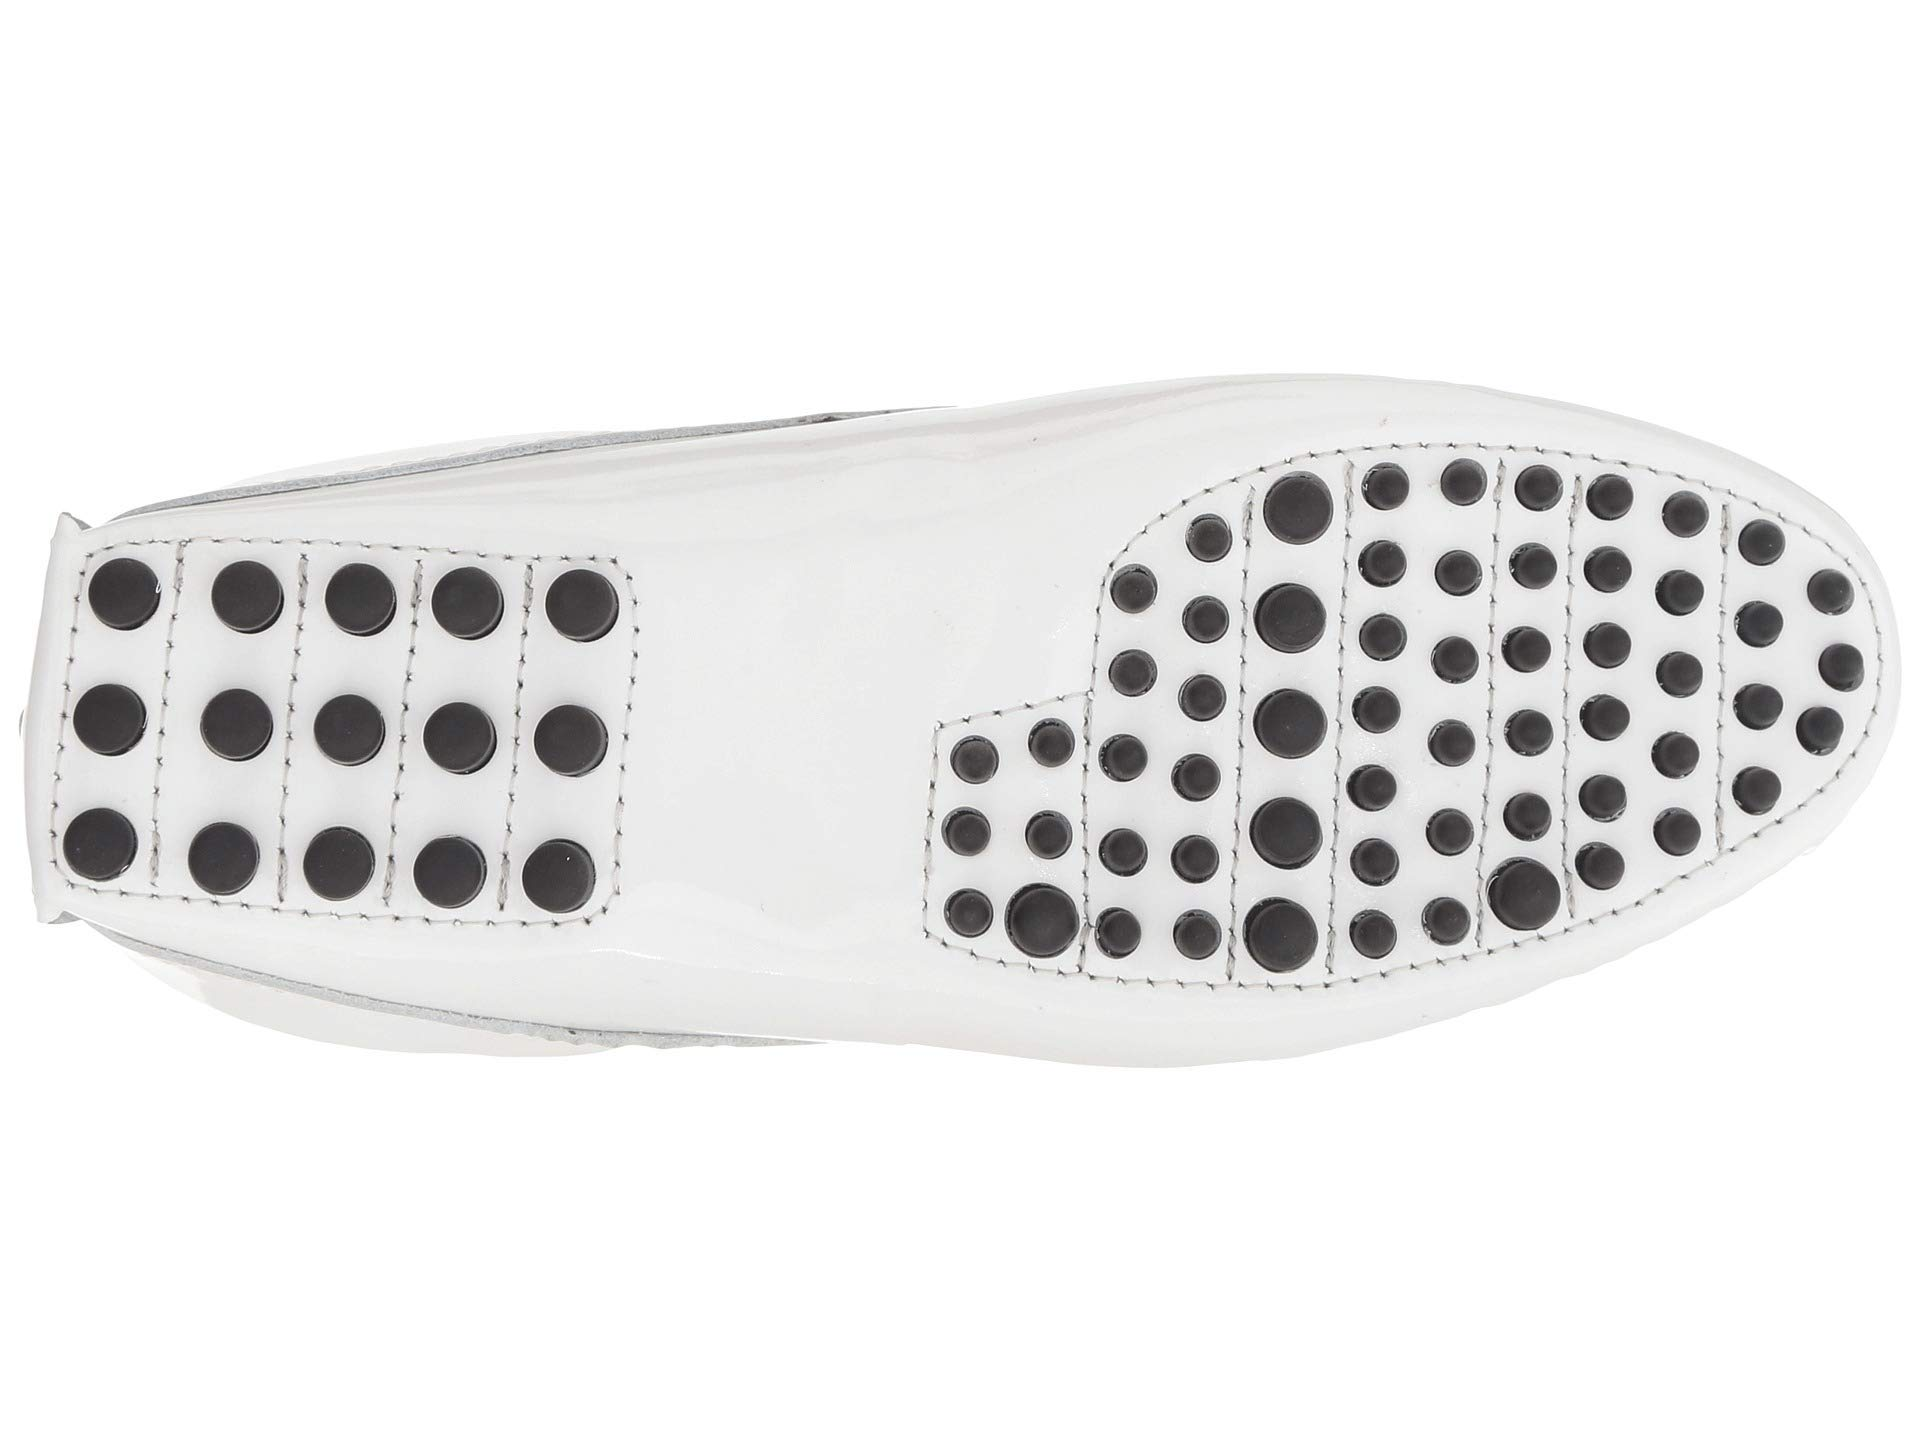circle: (57, 522, 661, 945), (1107, 452, 1645, 918)
line: (57, 522, 661, 945), (1107, 452, 1645, 918)
quad: (57, 522, 661, 945)
